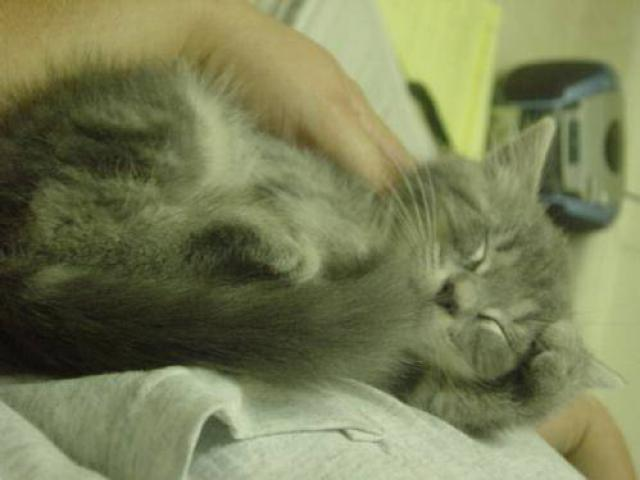cat: (51, 58, 610, 442)
